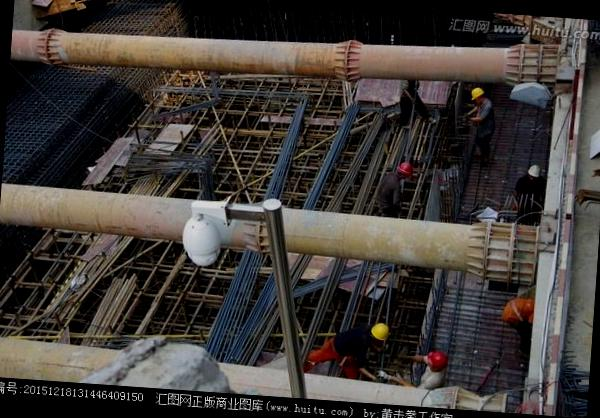helmet: (364, 316, 396, 349), (421, 344, 449, 377), (391, 155, 417, 183), (524, 162, 546, 185), (467, 84, 489, 106)
no_vest: (328, 324, 382, 368)
person: (302, 312, 394, 388), (460, 86, 502, 166), (368, 158, 416, 226)
